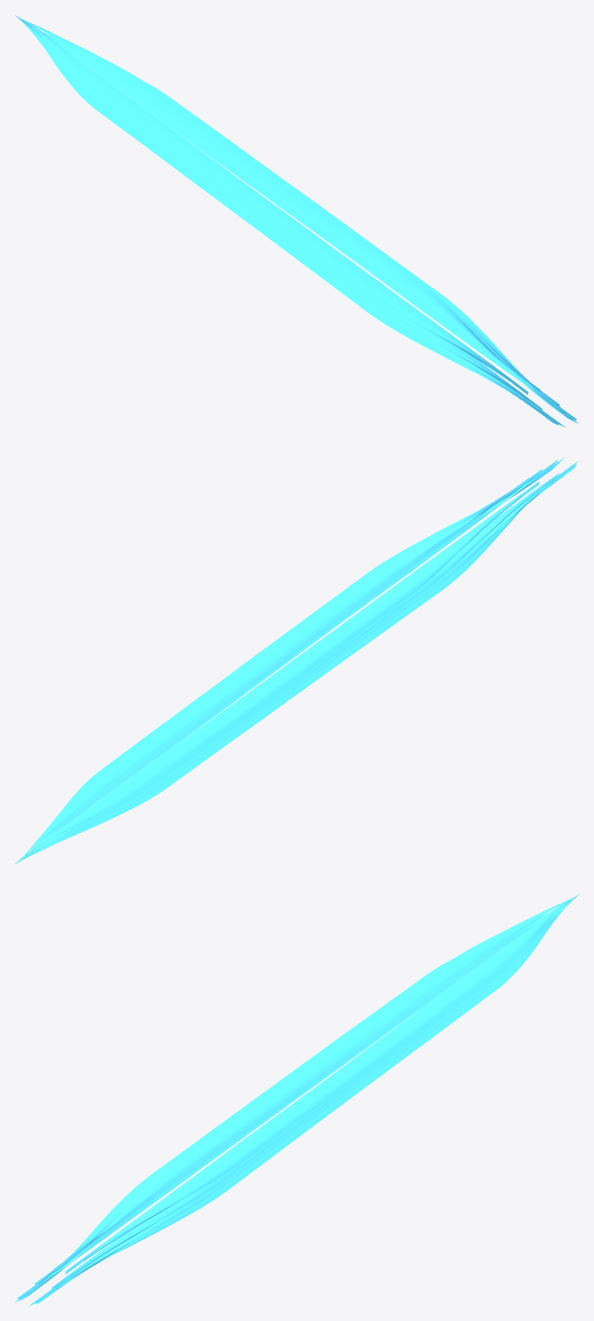
The model's file is airflow_only_flat.glb.
3 views of the same model, one above another, from view 1: azimuth 30°, elevation 25°; view 2: azimuth 150°, elevation 25°; view 3: azimuth 330°, elevation 25° (orthographic).
Parts seen in each view (by area): view 1: FX_Airflow_FilmsV3, FX_Airflow_FibersV3; view 2: FX_Airflow_FilmsV3, FX_Airflow_FibersV3; view 3: FX_Airflow_FilmsV3, FX_Airflow_FibersV3.
Part boxes in pixels (x1,y1,x2,y2): FX_Airflow_FilmsV3: (15, 15, 578, 427); FX_Airflow_FibersV3: (46, 34, 424, 310); FX_Airflow_FilmsV3: (15, 457, 578, 863); FX_Airflow_FibersV3: (37, 545, 432, 843); FX_Airflow_FilmsV3: (15, 894, 578, 1305); FX_Airflow_FibersV3: (180, 913, 547, 1176).
Size of the model in its own units: 0.615 by 0.112 by 8.07.
